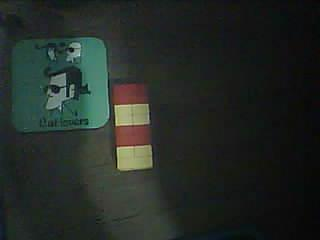lego: (111, 82, 153, 172)
